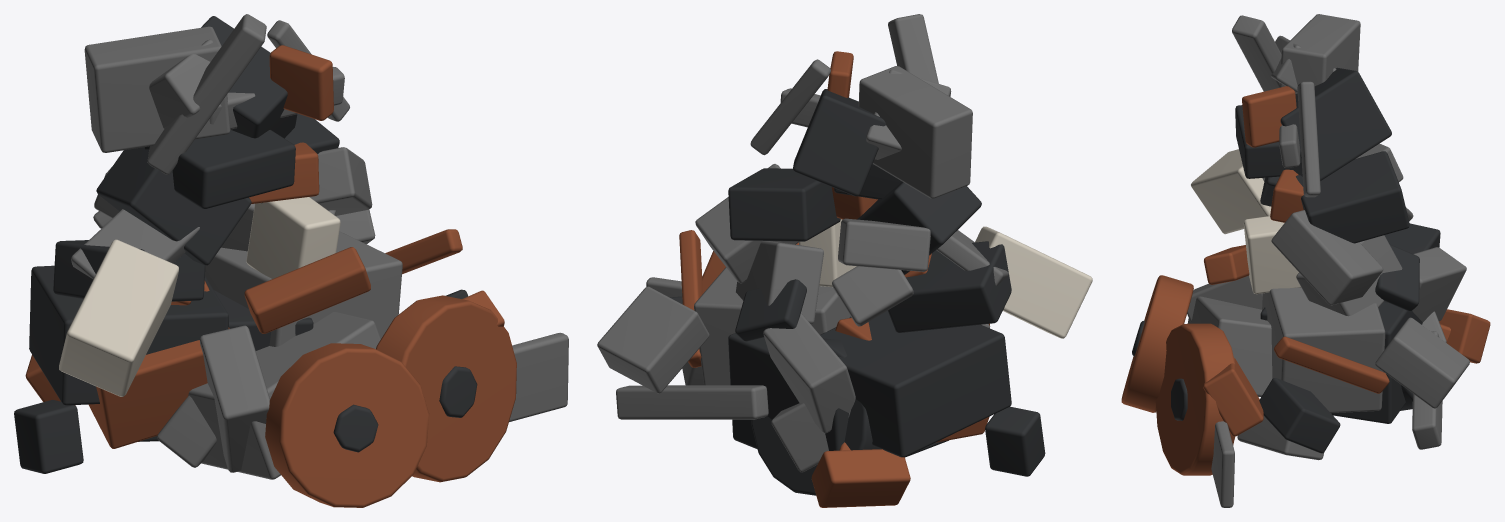
The model's file is scrap-pile-a.glb.
3 views of the same model, side by side, from view 1: azimuth 30°, elevation 25°; view 2: azimuth 150°, elevation 25°; view 3: azimuth 270°, elevation 25° (orthographic). The views are drawn at different scales.
Visible parts, largest first — view 1: scrap-pile-a; view 2: scrap-pile-a; view 3: scrap-pile-a.
Part boxes in pixels (bbox=[...]): scrap-pile-a: bbox=[14, 14, 568, 507]; scrap-pile-a: bbox=[597, 14, 1092, 507]; scrap-pile-a: bbox=[1121, 14, 1490, 507].
Bounding box in the file's own units: 3.91 × 3.52 × 3.04.
